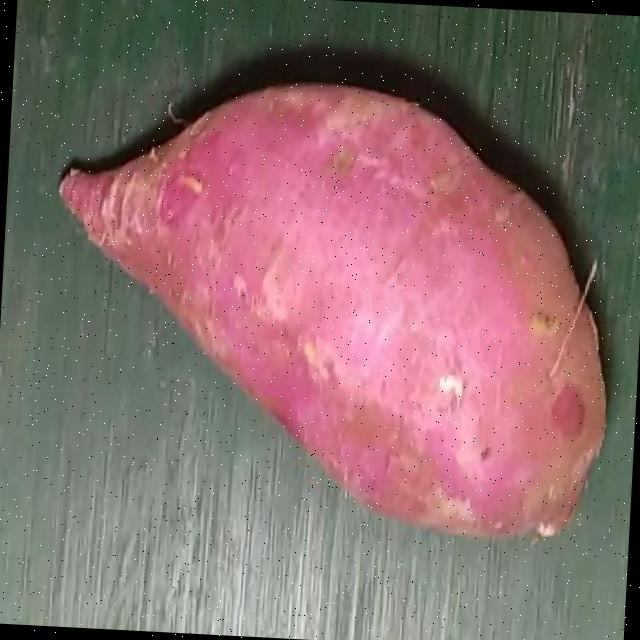Sweet Potato: (55, 83, 606, 541)
